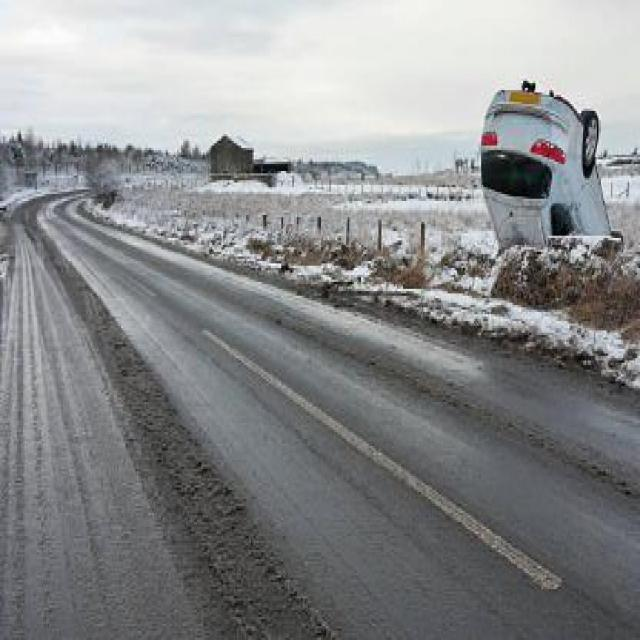accident: (477, 67, 614, 266)
